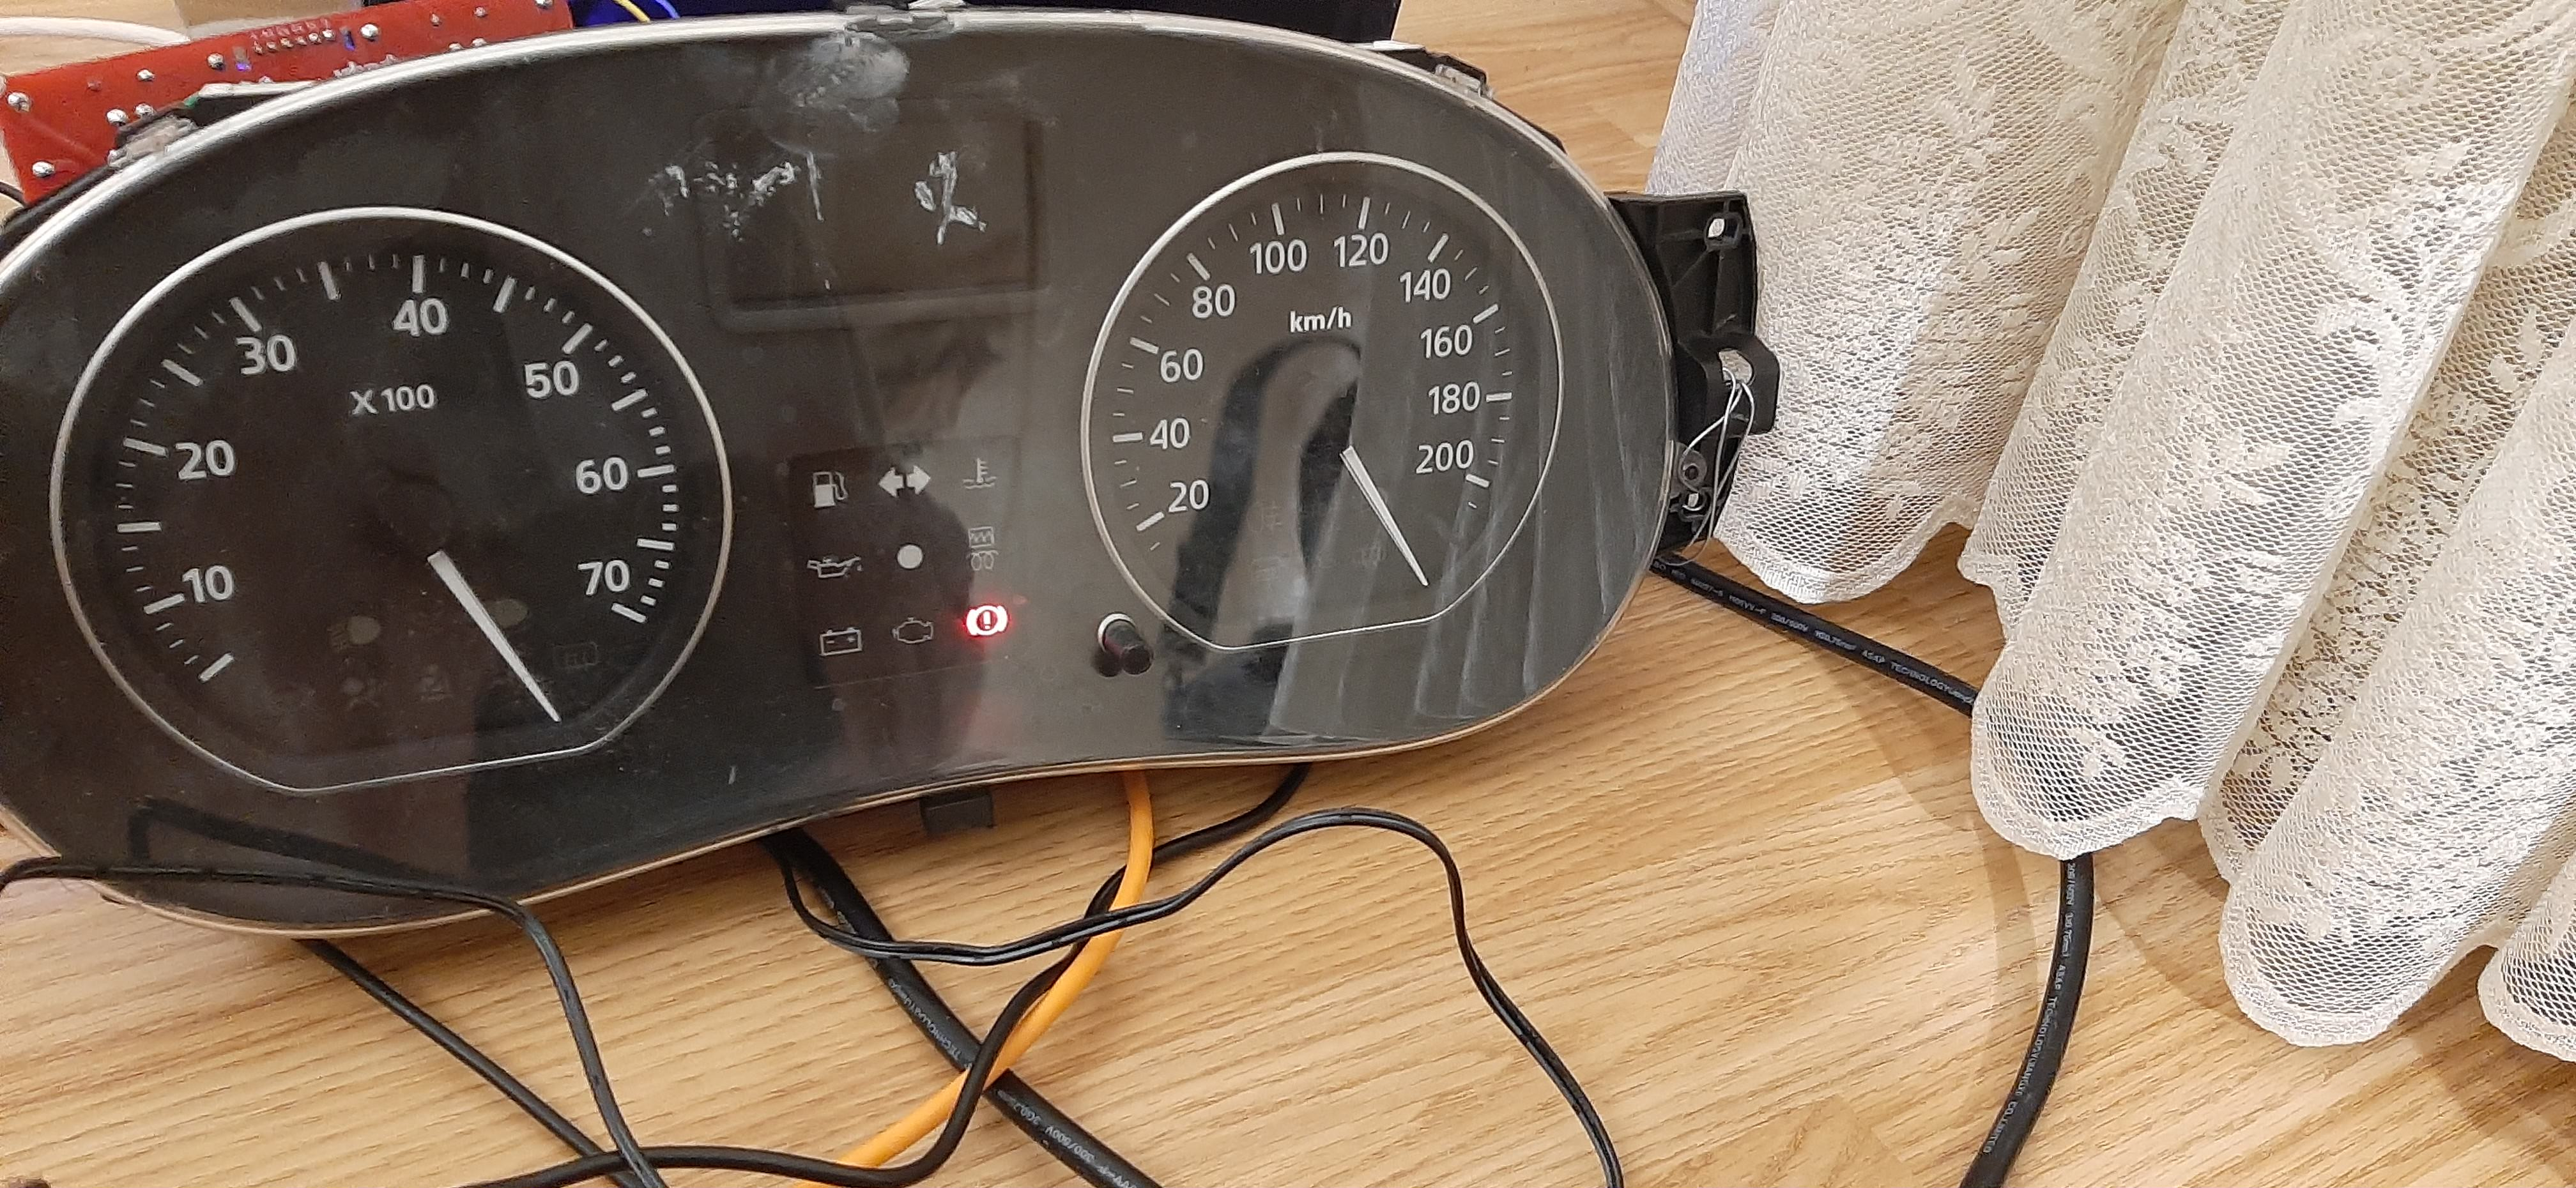brake20: (966, 605, 1010, 636)
